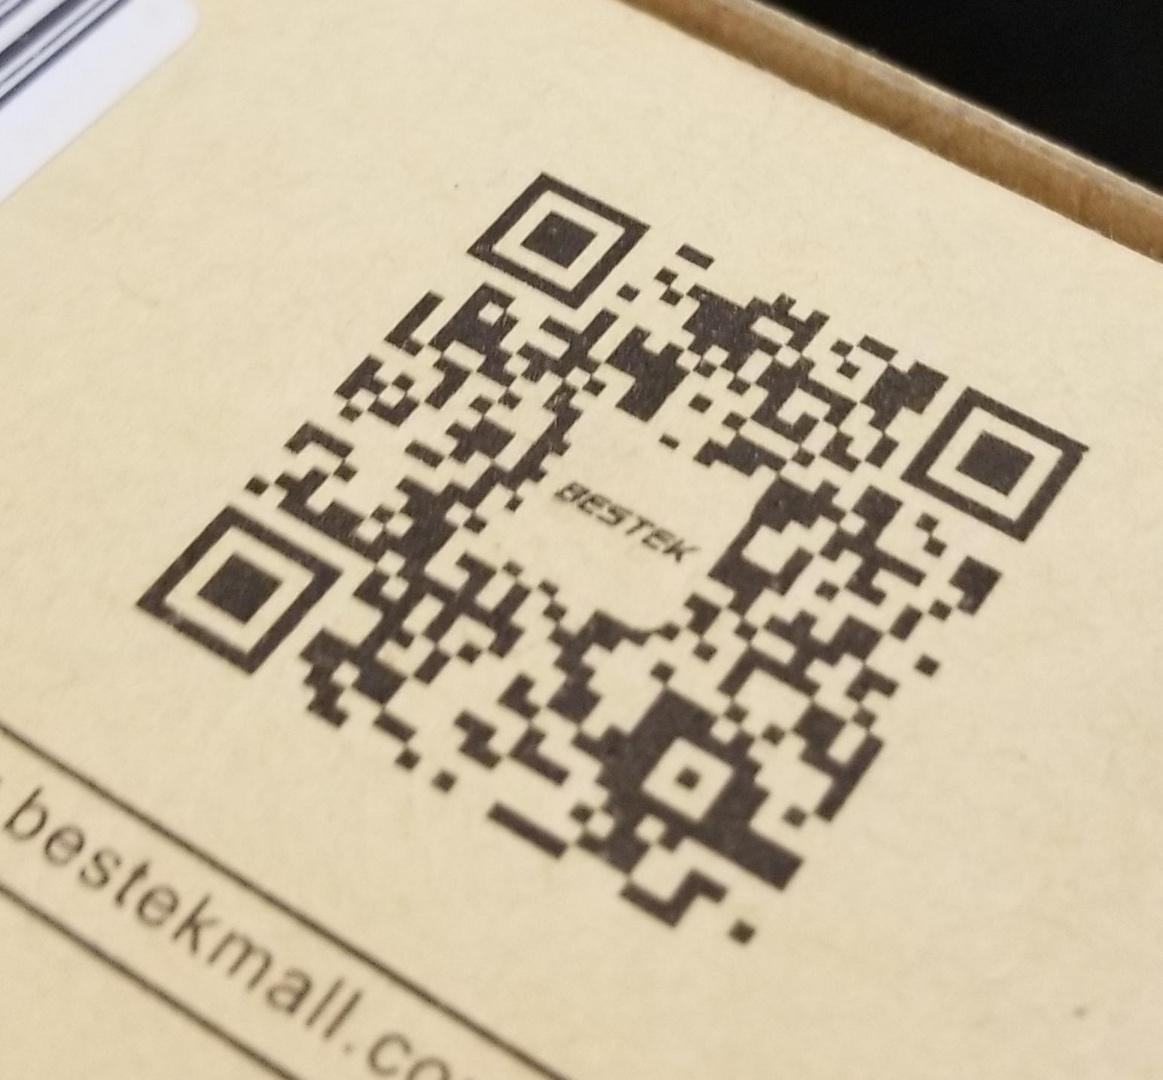Finder pattern: (133, 502, 339, 674), (900, 372, 1092, 543), (463, 164, 656, 312)
